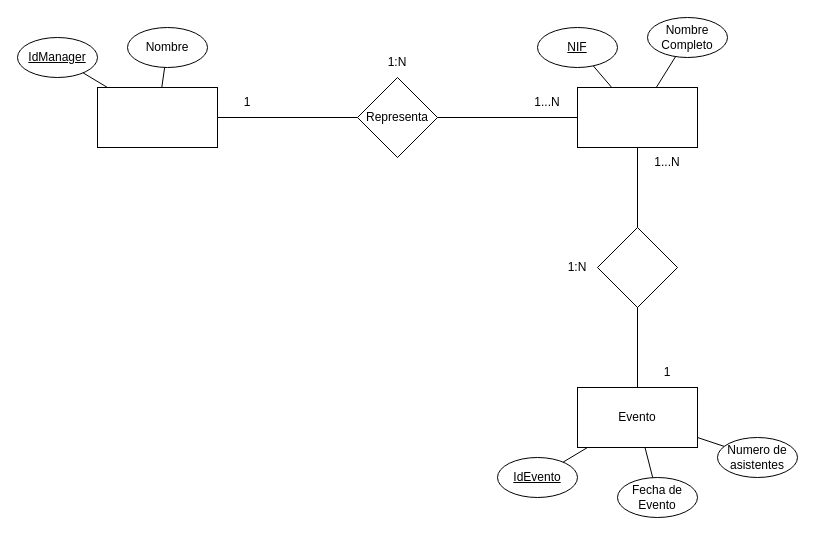
This 815x535 diagram has some shape labels left out. Here are the shapes that lost their labels. From the top down, the centre of each, then its label:
At point (157, 117): "Manager".
At point (637, 117): "Artista".
At point (637, 267): "Participa".
